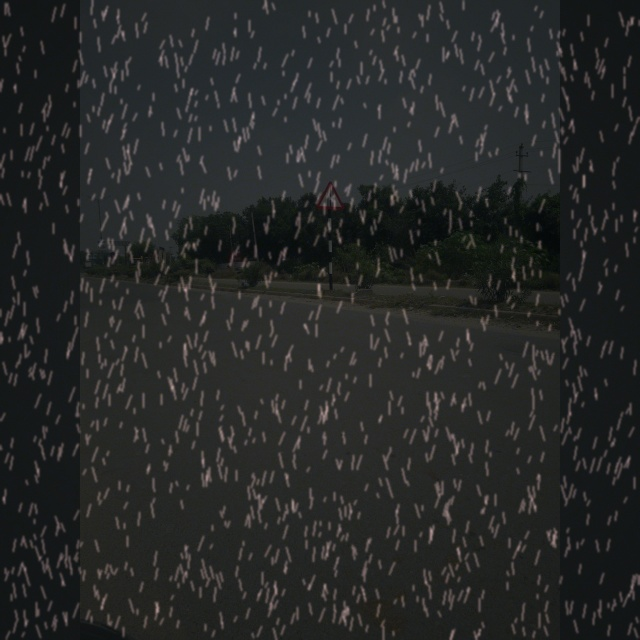Gap_in_Median: (311, 176, 352, 214)
